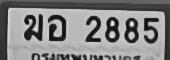2: (84, 15, 100, 41)
5: (143, 16, 158, 44)
8: (123, 16, 138, 42), (104, 16, 118, 42)
A06: (23, 13, 42, 40)
A43: (47, 14, 65, 40)
